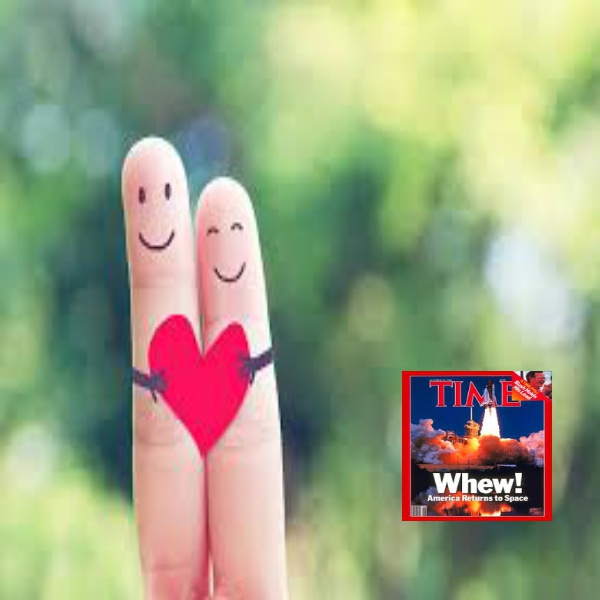time_cover: (403, 368, 552, 519)
